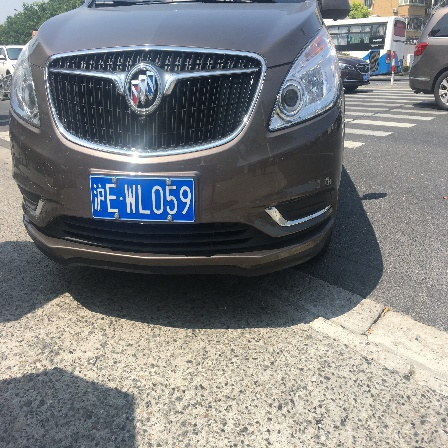plate: (87, 172, 201, 227)
